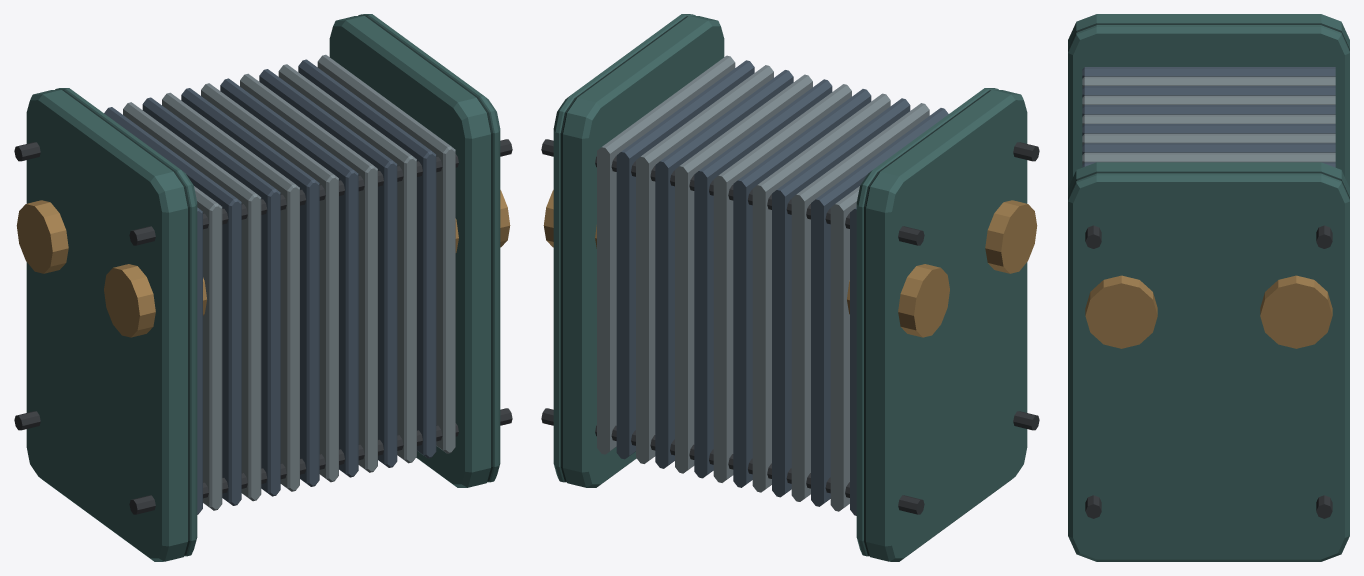
The model's file is E-06_heat_exchanger.glb.
The picture shows the model from 3 angles, left to right: view 1: azimuth 30°, elevation 25°; view 2: azimuth 150°, elevation 25°; view 3: azimuth 270°, elevation 25°; orthographic projection.
Parts seen in each view (by area): view 1: E-06_heat_exchanger; view 2: E-06_heat_exchanger; view 3: E-06_heat_exchanger.
Boxes of the visible parts, <box> form: E-06_heat_exchanger: <box>14,14,512,561</box>; E-06_heat_exchanger: <box>541,14,1039,561</box>; E-06_heat_exchanger: <box>1068,14,1349,561</box>.
Size of the model in its own units: 0.636 by 0.625 by 0.413.
